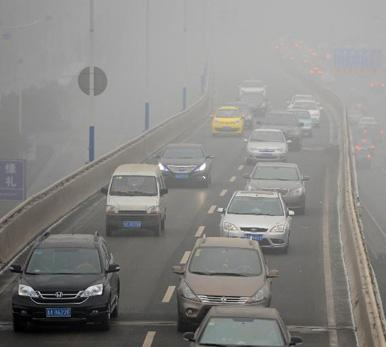car: (8, 231, 121, 334), (172, 237, 280, 333), (215, 188, 296, 254), (182, 305, 304, 347), (101, 163, 168, 237), (239, 161, 311, 216), (152, 143, 216, 189), (256, 110, 303, 151), (242, 129, 293, 165), (208, 106, 245, 138), (286, 99, 325, 128), (279, 109, 317, 137), (218, 102, 253, 129), (232, 92, 269, 117), (235, 79, 269, 104), (285, 93, 320, 116), (347, 146, 372, 170), (358, 125, 384, 146), (357, 117, 380, 134), (355, 137, 376, 154), (308, 66, 325, 77), (368, 79, 384, 90)
